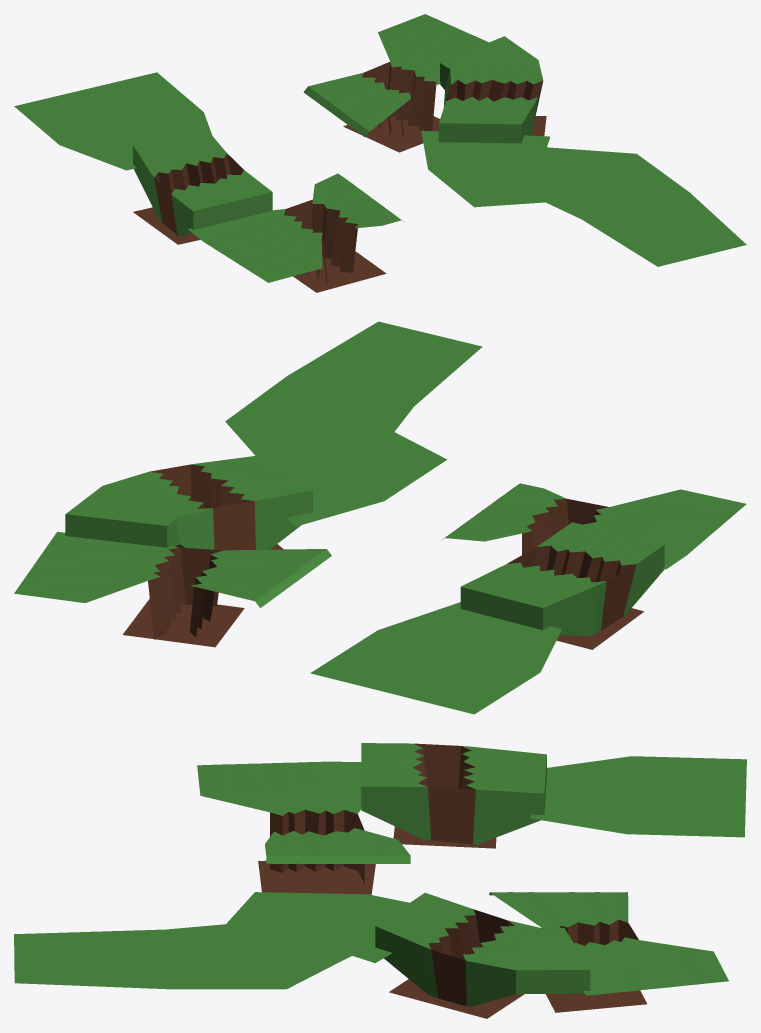
Rendered from ChaoBlocagem.fbx.
The picture shows the model from 3 angles, top to bottom: view 1: azimuth 30°, elevation 25°; view 2: azimuth 150°, elevation 25°; view 3: azimuth 270°, elevation 25°; orthographic projection. The views are drawn at different scales.
Visible parts, largest first — view 1: Chao; view 2: Chao; view 3: Chao.
Boxes of the visible parts, left/top/right/bottom form: Chao: left=14, top=14, right=746, bottom=292; Chao: left=14, top=321, right=746, bottom=714; Chao: left=14, top=743, right=746, bottom=1018.
Bounding box in the file's own units: 17732 × 2698 × 22955.
